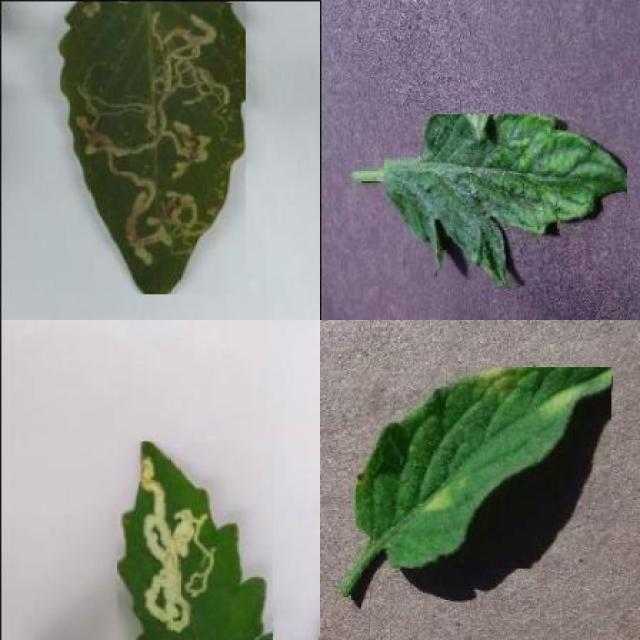Leaf Miner: (55, 3, 245, 294), (117, 441, 273, 640)
Leaf Mold: (356, 367, 611, 569)
Mosaic Virus: (385, 114, 628, 286)
